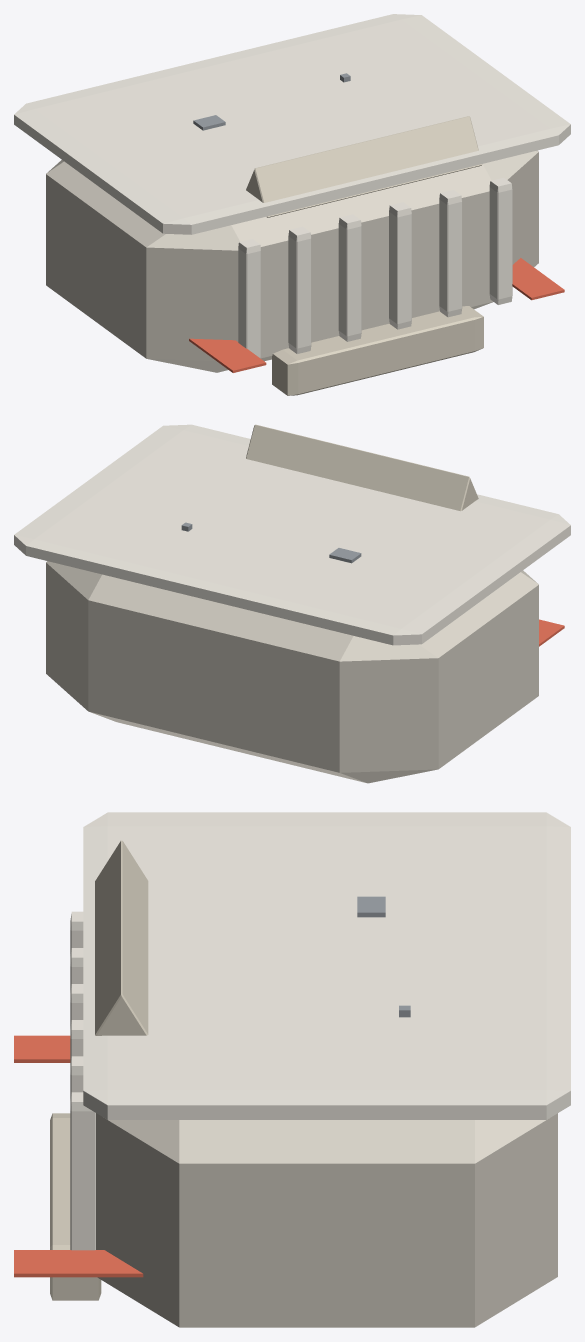
The model's file is museum.glb.
The picture shows the model from 3 angles, top to bottom: view 1: azimuth 30°, elevation 25°; view 2: azimuth 150°, elevation 25°; view 3: azimuth 270°, elevation 25°; orthographic projection. The views are drawn at different scales.
Visible parts, largest first — view 1: cornice, walls, steps, roof, col.15231, col.15230, col.15234, col.15233, col.15232, col.15229, banner, banner.001; view 2: walls, cornice, roof; view 3: cornice, walls, roof, steps, col.15234, banner.001, banner, hvac.
Part boxes in pixels (<box>): cornice: <box>14,14,570,234</box>; walls: <box>46,150,538,372</box>; steps: <box>272,306,483,395</box>; roof: <box>246,116,482,217</box>; col.15231: <box>338,214,361,341</box>; col.15230: <box>288,226,311,353</box>; col.15234: <box>489,177,512,304</box>; col.15233: <box>439,190,462,317</box>; col.15232: <box>389,202,411,329</box>; col.15229: <box>238,239,260,358</box>; banner: <box>189,338,266,372</box>; banner.001: <box>512,258,564,300</box>; walls: <box>46,561,538,783</box>; cornice: <box>14,424,570,645</box>; roof: <box>246,424,478,511</box>; cornice: <box>83,812,570,1119</box>; walls: <box>96,1113,557,1327</box>; roof: <box>95,840,148,1035</box>; steps: <box>50,1113,101,1300</box>; col.15234: <box>70,1092,95,1250</box>; banner.001: <box>14,1250,143,1277</box>; banner: <box>14,1035,70,1062</box>; hvac: <box>357,896,385,917</box>.
Bounding box in the file's own units: 27 × 13.55 × 21.7.
